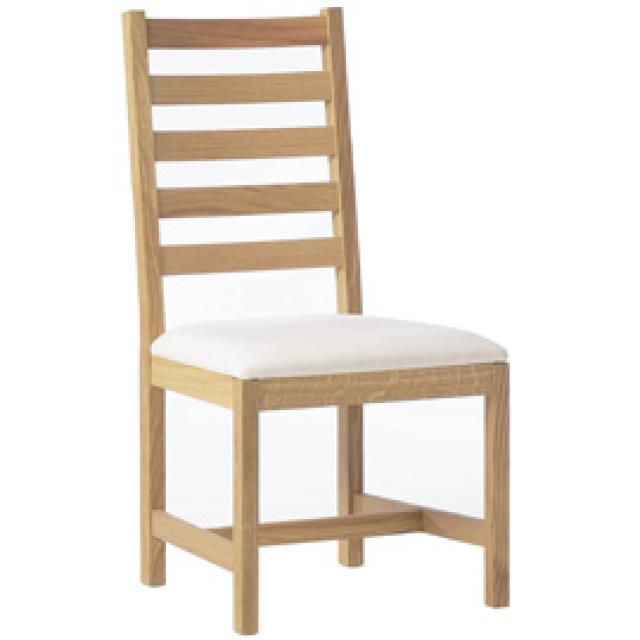chair: (118, 5, 509, 640)
